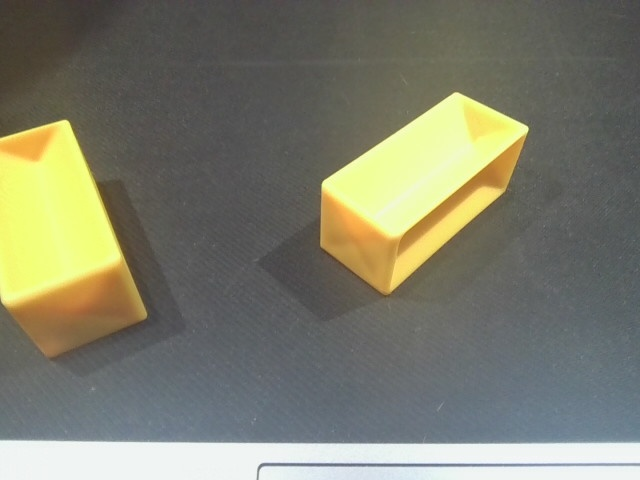YellowSample: (307, 88, 534, 302), (1, 116, 152, 362)
